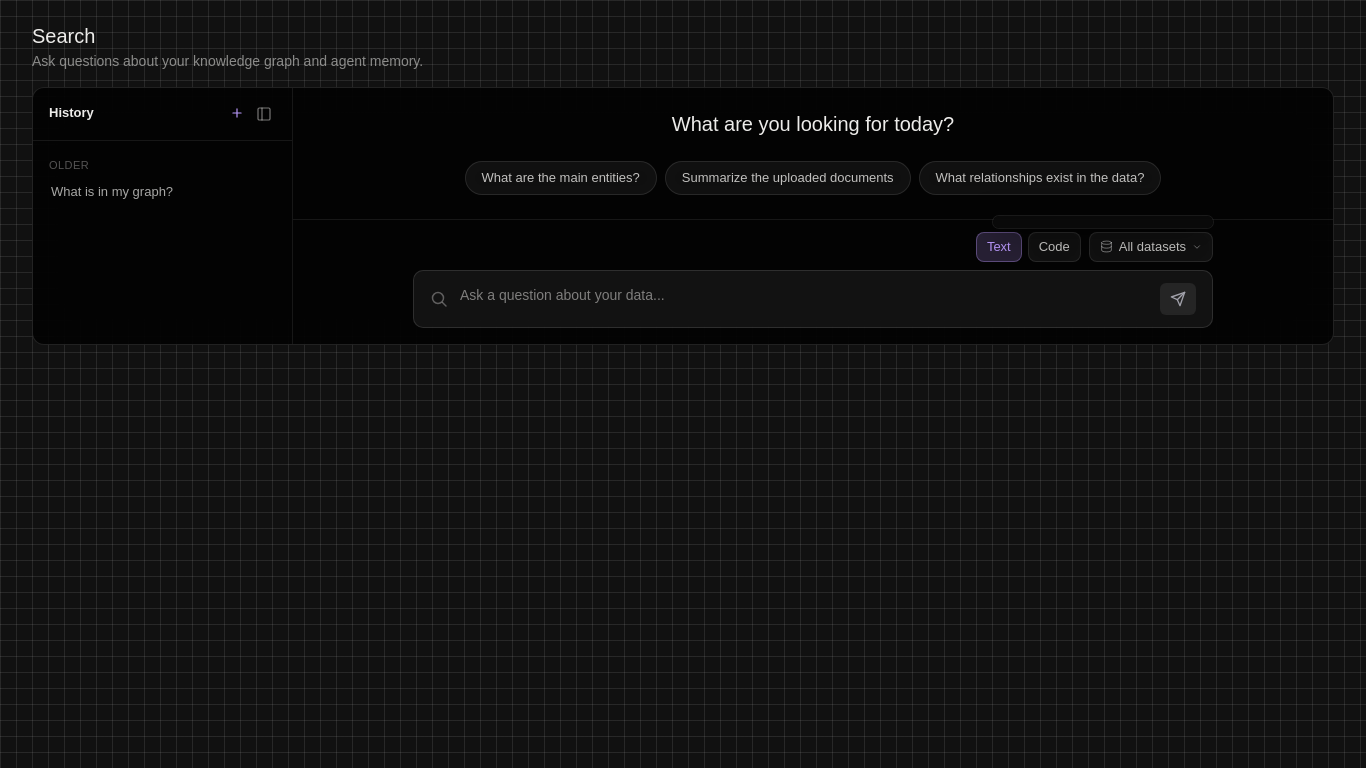
SearchPage › opens a past conversation only once the user selects it
The image size is (1366, 768).
Click the text "What is in my graph?" at point(112, 192), box [51, 184, 173, 199]
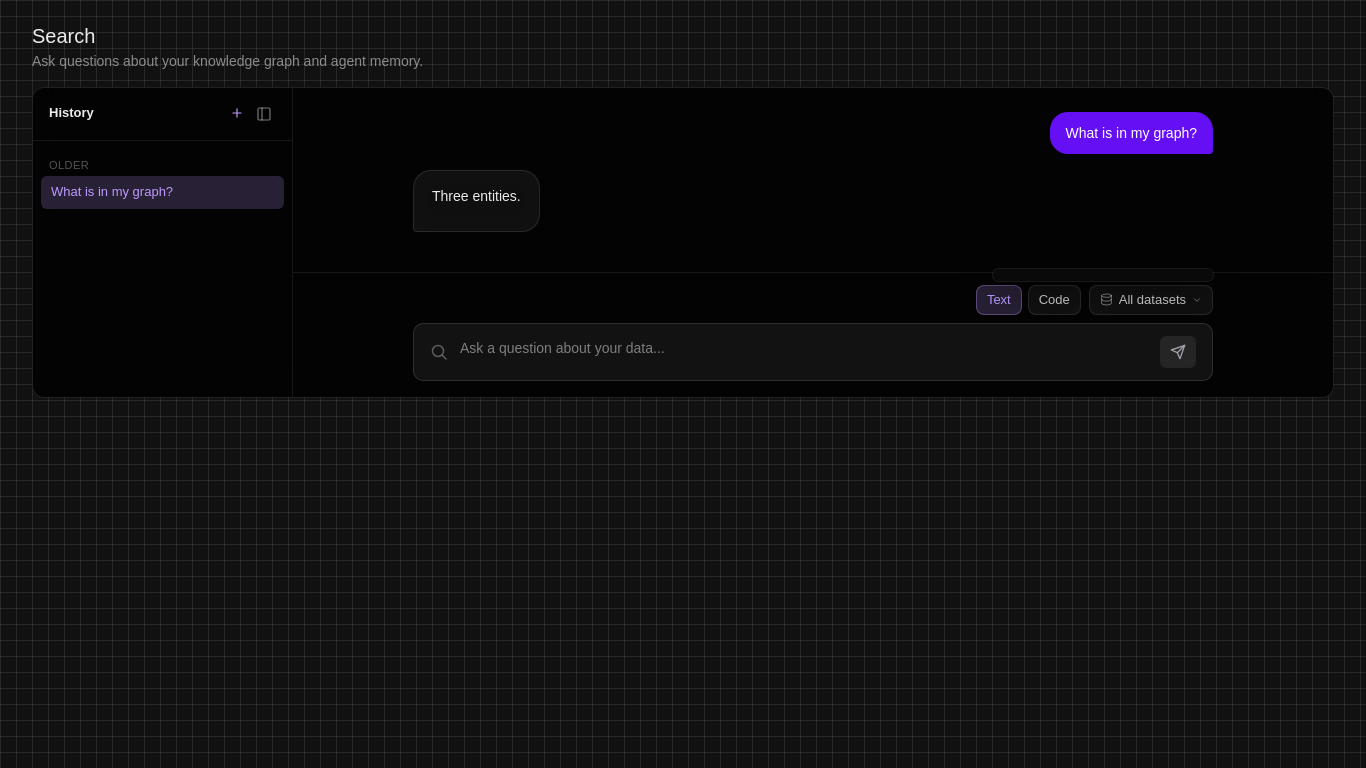
Result: the element with test id "assistant-message" reads "Three entities." at [432, 188, 521, 204]
Result: the heading "What are you looking for today?" is gone
